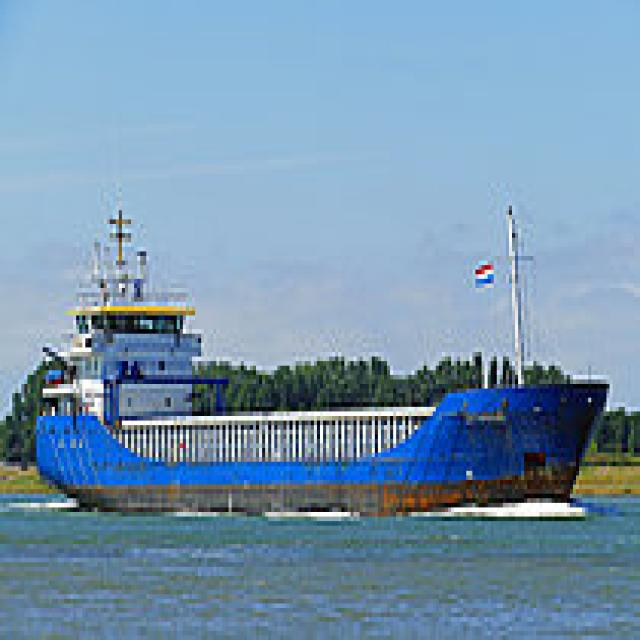Cargo: (31, 196, 610, 516)
